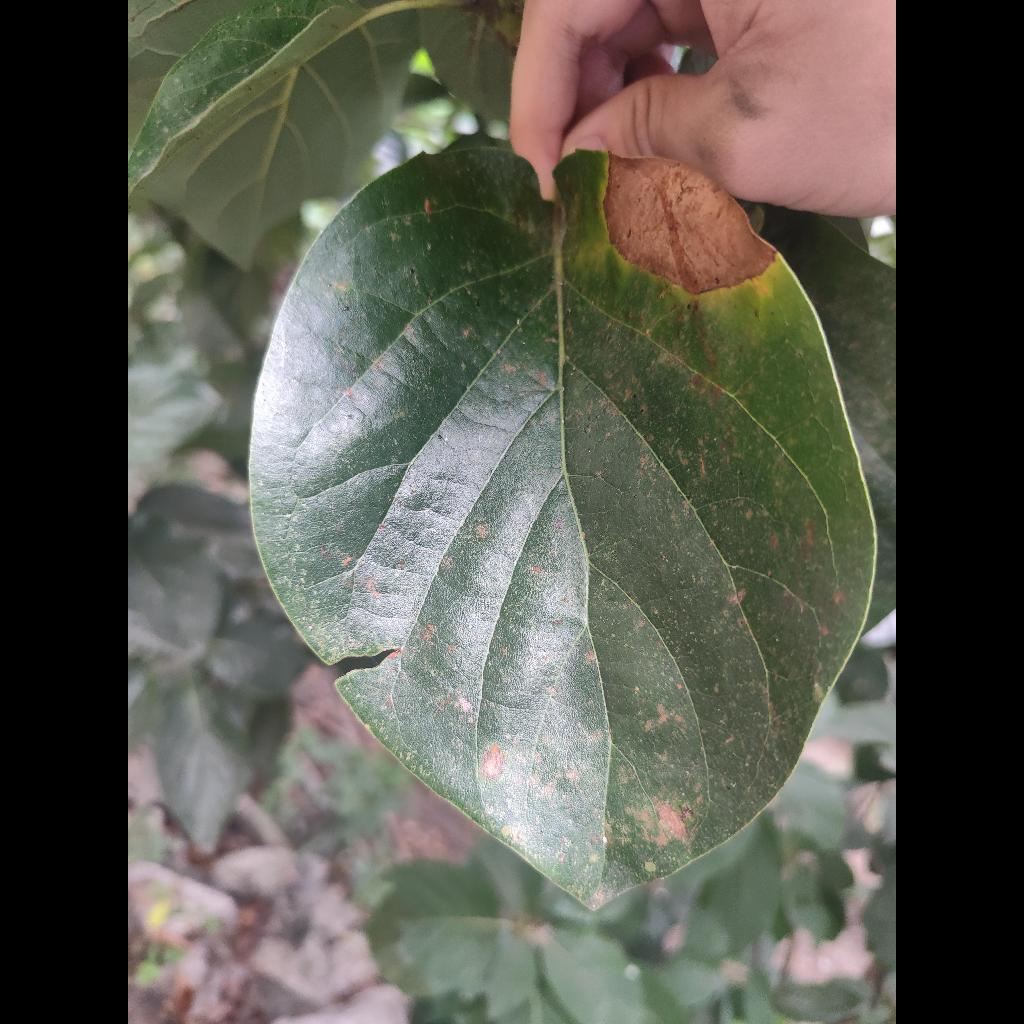antracnosis_hoja: (251, 149, 874, 905)
